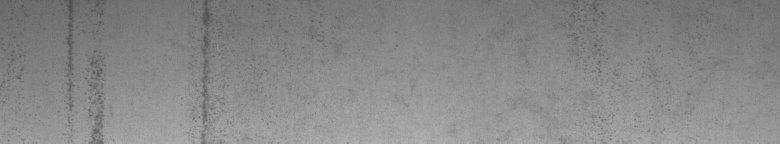hd: (193, 4, 223, 136)
